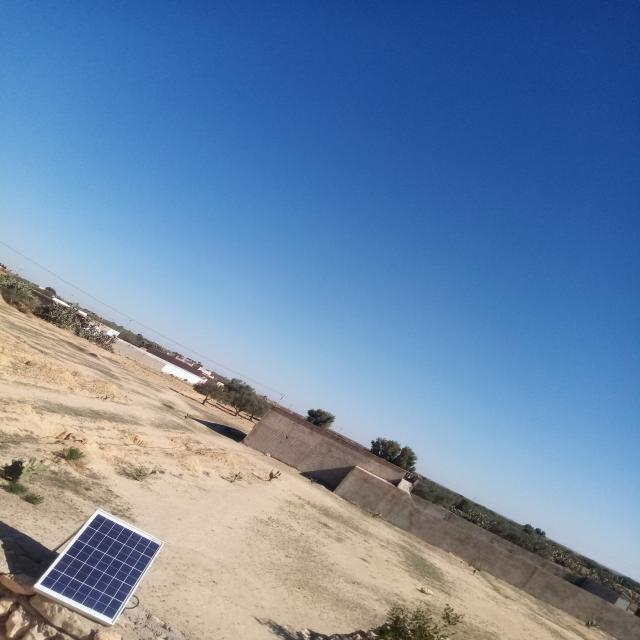Normal Solar Panel: (34, 508, 164, 624)
